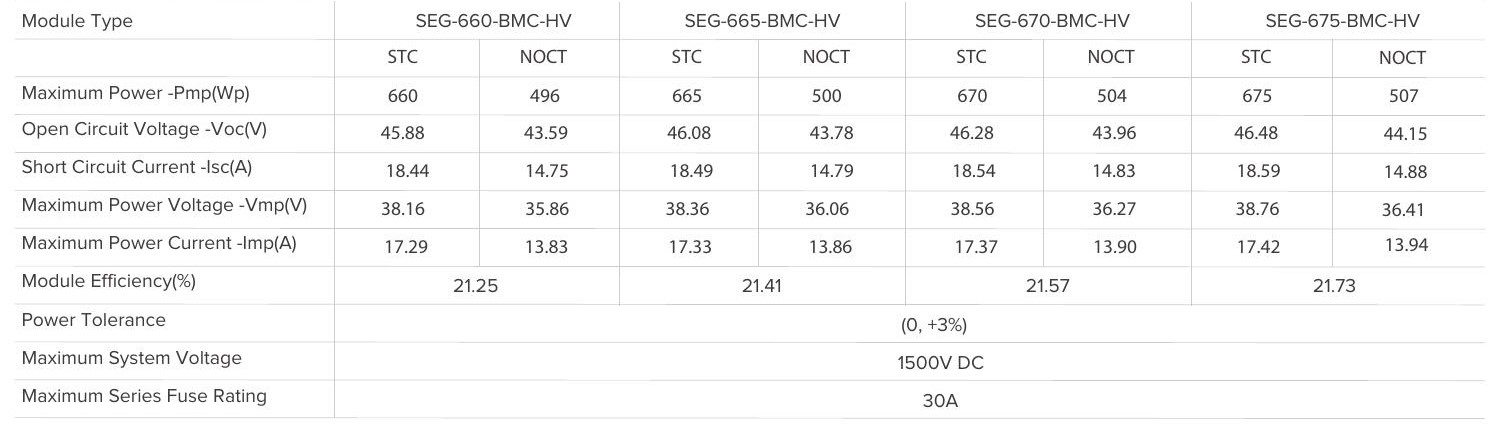table: (2, 1, 1512, 428)
table column: (15, 3, 333, 426), (1337, 3, 1487, 414), (1044, 2, 1190, 423), (762, 3, 903, 426), (904, 3, 1044, 421), (1196, 4, 1335, 418), (337, 3, 473, 424), (480, 5, 616, 426), (622, 3, 757, 427)
table row: (6, 345, 1509, 381), (7, 385, 1512, 420), (7, 306, 1509, 341), (9, 232, 1507, 265), (7, 43, 1504, 76), (7, 155, 1508, 187), (9, 271, 1507, 302), (8, 5, 1502, 36), (5, 81, 1506, 111), (7, 118, 1508, 148), (10, 193, 1506, 223)
table spanning cell: (328, 304, 1494, 343), (331, 382, 1492, 420), (331, 348, 1492, 378), (1192, 269, 1493, 308), (906, 268, 1190, 308), (910, 7, 1190, 46), (334, 3, 619, 41), (623, 6, 906, 40), (620, 269, 902, 303), (1194, 9, 1488, 39), (334, 267, 617, 298)
